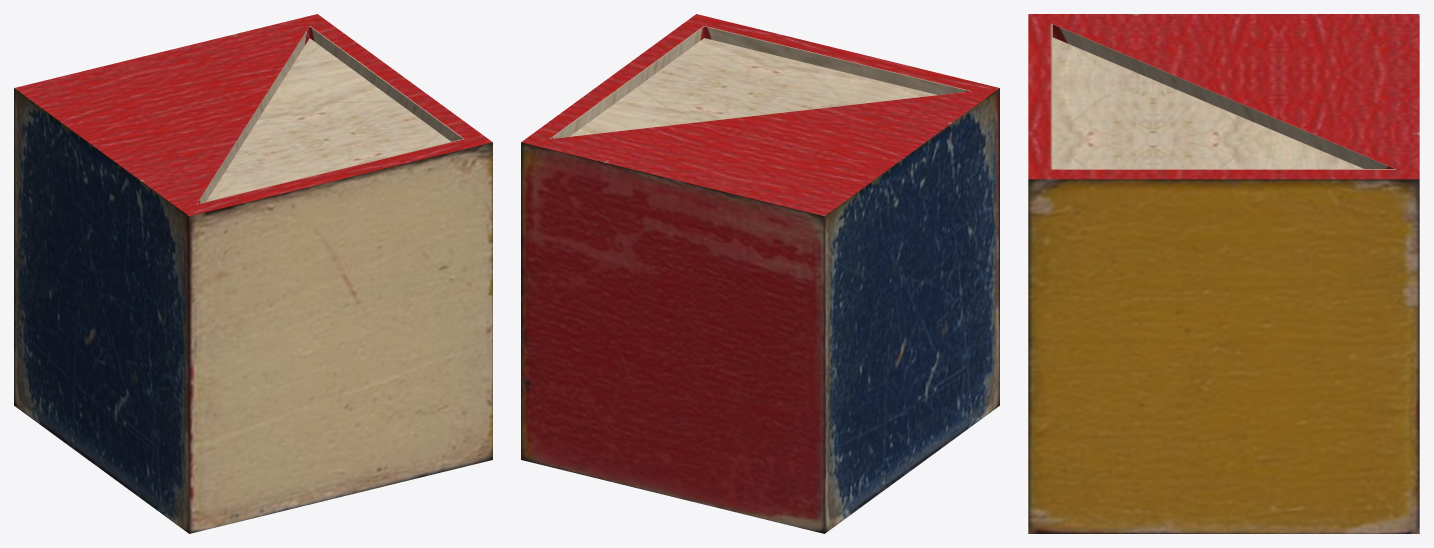
File: color-cube.obj
3 renders of one model, left to right at view 1: azimuth 30°, elevation 25°; view 2: azimuth 150°, elevation 25°; view 3: azimuth 270°, elevation 25°, orthographic. The views are drawn at different scales.
Visible parts, largest first — view 1: ColorCube; view 2: ColorCube; view 3: ColorCube.
Part boxes in pixels (box(x1,y1,x2,y2)): ColorCube: box(14, 14, 492, 533); ColorCube: box(521, 14, 999, 533); ColorCube: box(1028, 14, 1419, 533).
Size of the model in its own units: 0.0275 by 0.0275 by 0.0275.
1 material, 1 textured.
